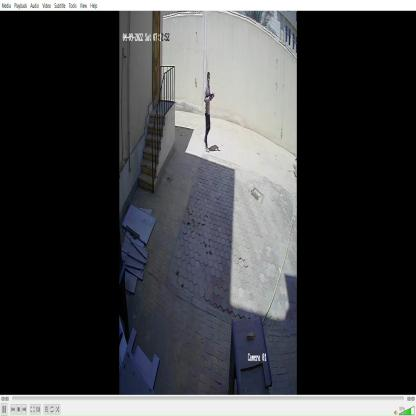handgun: (206, 89, 216, 103)
